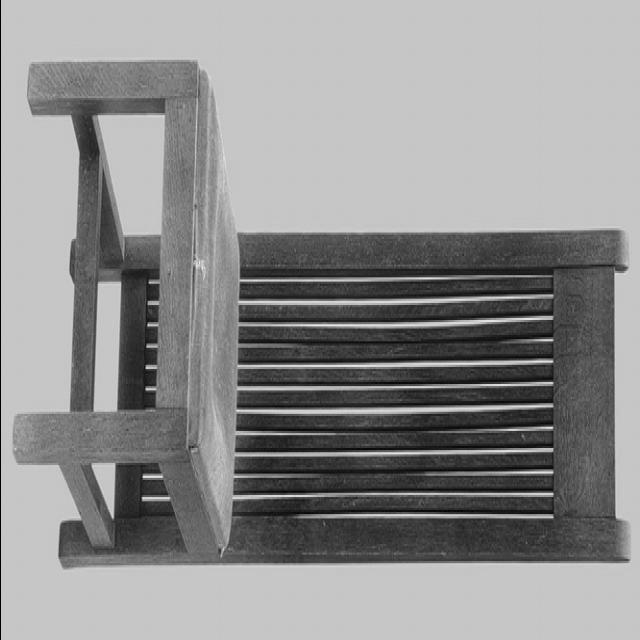chair: (11, 55, 634, 578)
